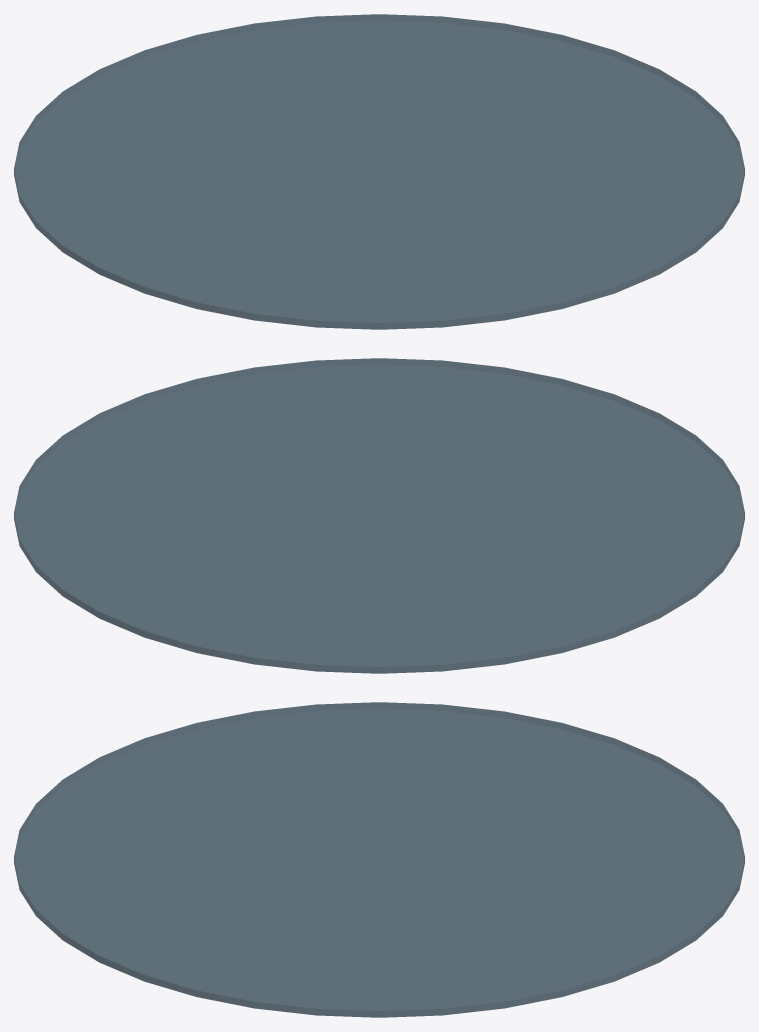
Rendered from SM_Table Glass.FBX.
The picture shows the model from 3 angles, top to bottom: view 1: azimuth 30°, elevation 25°; view 2: azimuth 150°, elevation 25°; view 3: azimuth 270°, elevation 25°; orthographic projection.
Visible parts, largest first — view 1: Glass; view 2: Glass; view 3: Glass.
Part boxes in pixels (x1,y1,x2,y2): Glass: (14,14,744,329); Glass: (14,358,744,673); Glass: (14,702,744,1017).
Bounding box in the file's own units: 1134 × 11.52 × 1134.
